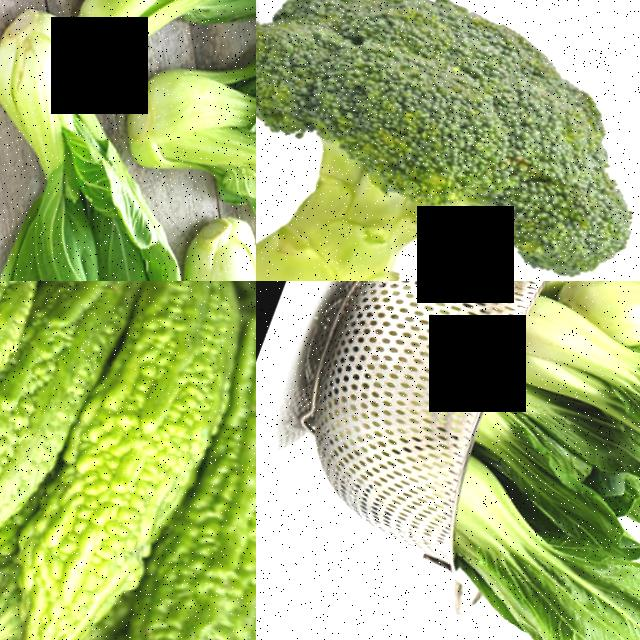bitter gourd: (15, 281, 250, 640), (115, 313, 256, 640), (0, 281, 119, 542)
bok choy: (108, 30, 256, 257), (0, 104, 188, 281), (421, 510, 640, 640), (488, 308, 640, 495), (450, 401, 628, 539)
broccoli: (256, 0, 640, 281)
